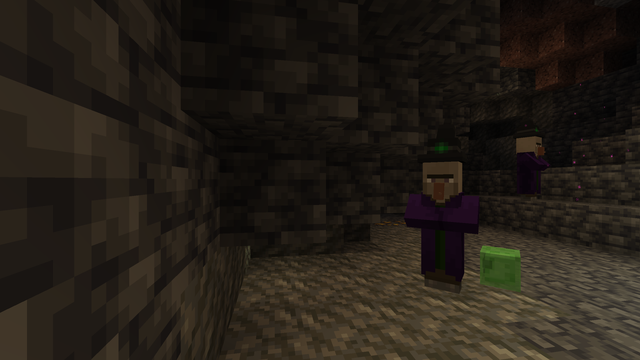slimes: (485, 244, 529, 290)
sorcieres: (413, 155, 474, 296), (511, 133, 547, 201)
